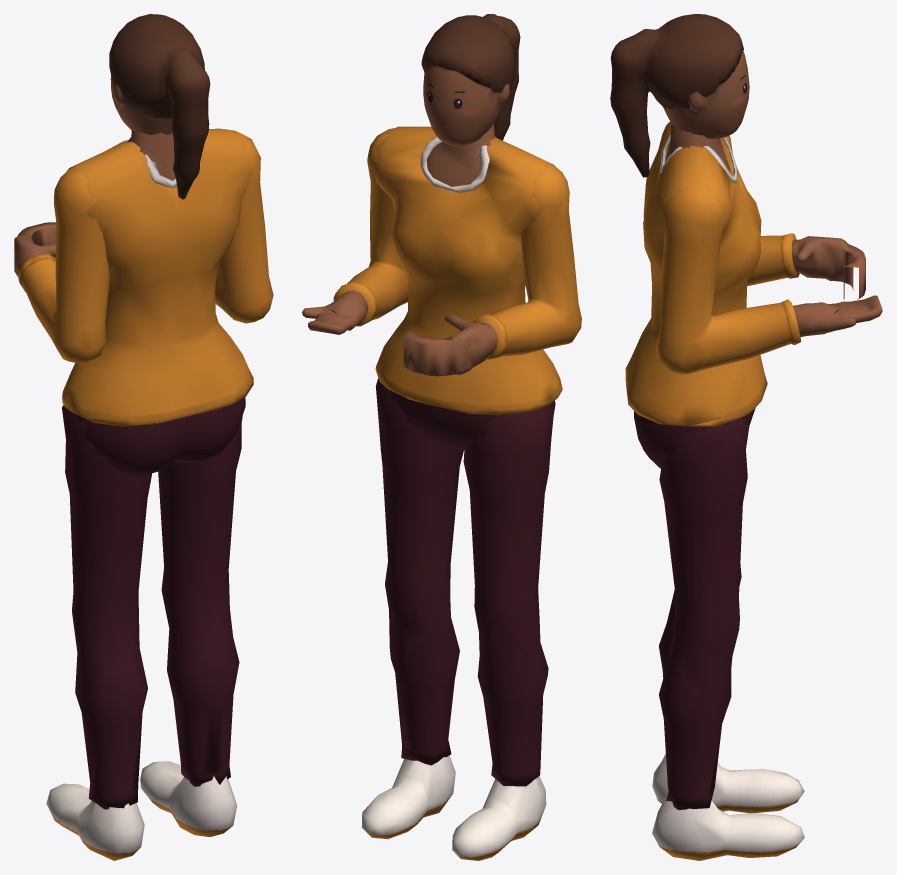
The model's file is npc_pony.glb.
3 renders of one model, left to right at view 1: azimuth 30°, elevation 25°; view 2: azimuth 150°, elevation 25°; view 3: azimuth 270°, elevation 25°, orthographic. The views are drawn at different scales.
Visible parts, largest first — view 1: Torso_Top, LegL_Pants, LegR_Pants, ArmL_Sleeve, Head_Hair, Torso_Hips, ArmR_Sleeve, LegR_Shoe, LegL_Shoe, ArmL_Skin, Torso_Skin, Head_Skin; view 2: Torso_Top, LegL_Pants, LegR_Pants, ArmL_Sleeve, Head_Hair, ArmR_Sleeve, LegR_Shoe, LegL_Shoe, Head_Skin, ArmL_Skin, Torso_Hips, Torso_Skin (+2 smaller); view 3: LegR_Pants, Torso_Top, ArmR_Sleeve, Head_Hair, LegR_Shoe, LegL_Shoe, Head_Skin, ArmL_Skin, ArmR_Skin, ArmL_Sleeve, Torso_Hips, Torso_Skin (+2 smaller).
Boxes of the visible parts, x1=… form: Torso_Top: x1=62, y1=128, x2=253, y2=426; LegL_Pants: x1=62, y1=405, x2=151, y2=809; LegR_Pants: x1=158, y1=416, x2=242, y2=786; ArmL_Sleeve: x1=18, y1=168, x2=109, y2=364; Head_Hair: x1=109, y1=14, x2=210, y2=199; Torso_Hips: x1=75, y1=398, x2=245, y2=475; ArmR_Sleeve: x1=215, y1=130, x2=273, y2=323; LegR_Shoe: x1=140, y1=761, x2=237, y2=836; LegL_Shoe: x1=46, y1=783, x2=144, y2=860; ArmL_Skin: x1=14, y1=222, x2=55, y2=276; Torso_Skin: x1=127, y1=130, x2=175, y2=180; Head_Skin: x1=110, y1=75, x2=172, y2=134; Torso_Top: x1=370, y1=126, x2=562, y2=415; LegL_Pants: x1=463, y1=402, x2=553, y2=786; LegR_Pants: x1=375, y1=378, x2=463, y2=765; ArmL_Sleeve: x1=472, y1=164, x2=581, y2=359; Head_Hair: x1=421, y1=14, x2=520, y2=140; ArmR_Sleeve: x1=333, y1=128, x2=408, y2=326; LegR_Shoe: x1=361, y1=755, x2=455, y2=839; LegL_Shoe: x1=452, y1=776, x2=546, y2=860; Head_Skin: x1=423, y1=66, x2=509, y2=145; ArmL_Skin: x1=403, y1=313, x2=497, y2=376; Torso_Hips: x1=390, y1=390, x2=555, y2=450; Torso_Skin: x1=426, y1=124, x2=497, y2=186; LegR_Pants: x1=659, y1=418, x2=749, y2=809; Torso_Top: x1=625, y1=121, x2=767, y2=426; ArmR_Sleeve: x1=656, y1=184, x2=800, y2=374; Head_Hair: x1=610, y1=14, x2=743, y2=177; LegR_Shoe: x1=652, y1=792, x2=804, y2=860; LegL_Shoe: x1=652, y1=753, x2=804, y2=813; Head_Skin: x1=663, y1=51, x2=749, y2=138; ArmL_Skin: x1=792, y1=236, x2=865, y2=299; ArmR_Skin: x1=793, y1=295, x2=882, y2=336; ArmL_Sleeve: x1=747, y1=233, x2=799, y2=286; Torso_Hips: x1=634, y1=408, x2=755, y2=468; Torso_Skin: x1=665, y1=124, x2=730, y2=172.
Bounding box in the file's own units: 0.4576 × 1.68 × 0.5097.
Materials: 5 (5 with a texture image).
